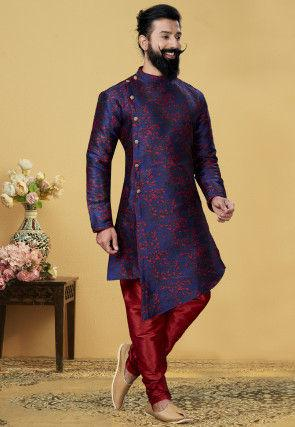Desgin sherwani: (84, 65, 231, 318)
